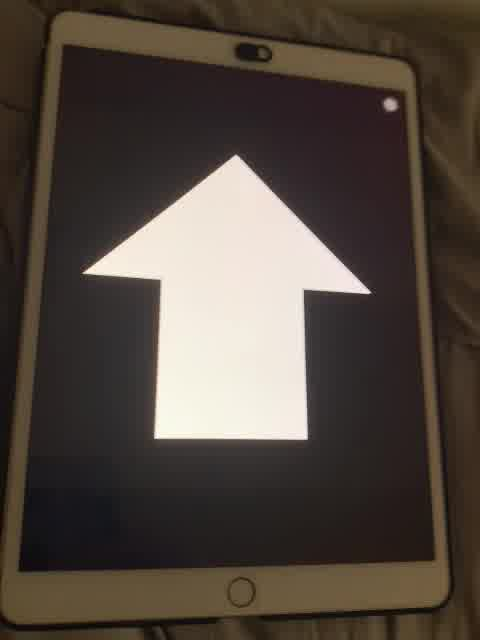up: (78, 145, 371, 448)
